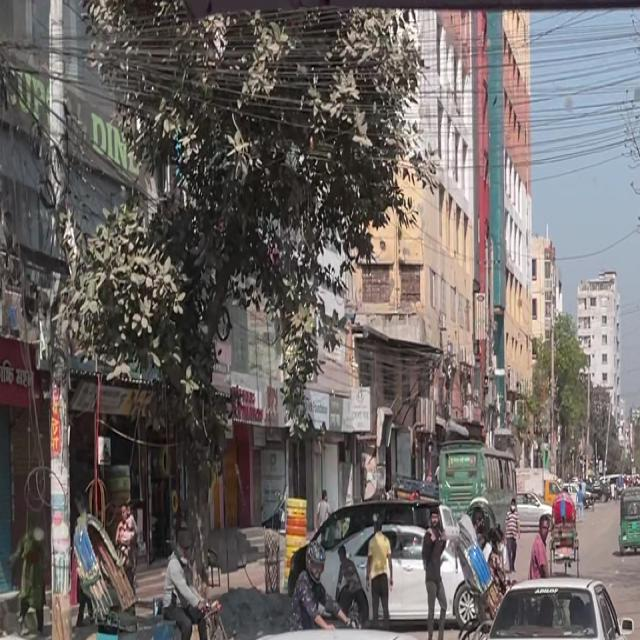car: (444, 559, 640, 640), (108, 609, 486, 640), (265, 488, 325, 571), (538, 613, 640, 640), (0, 622, 93, 640)
rickshaw: (612, 488, 640, 560)
